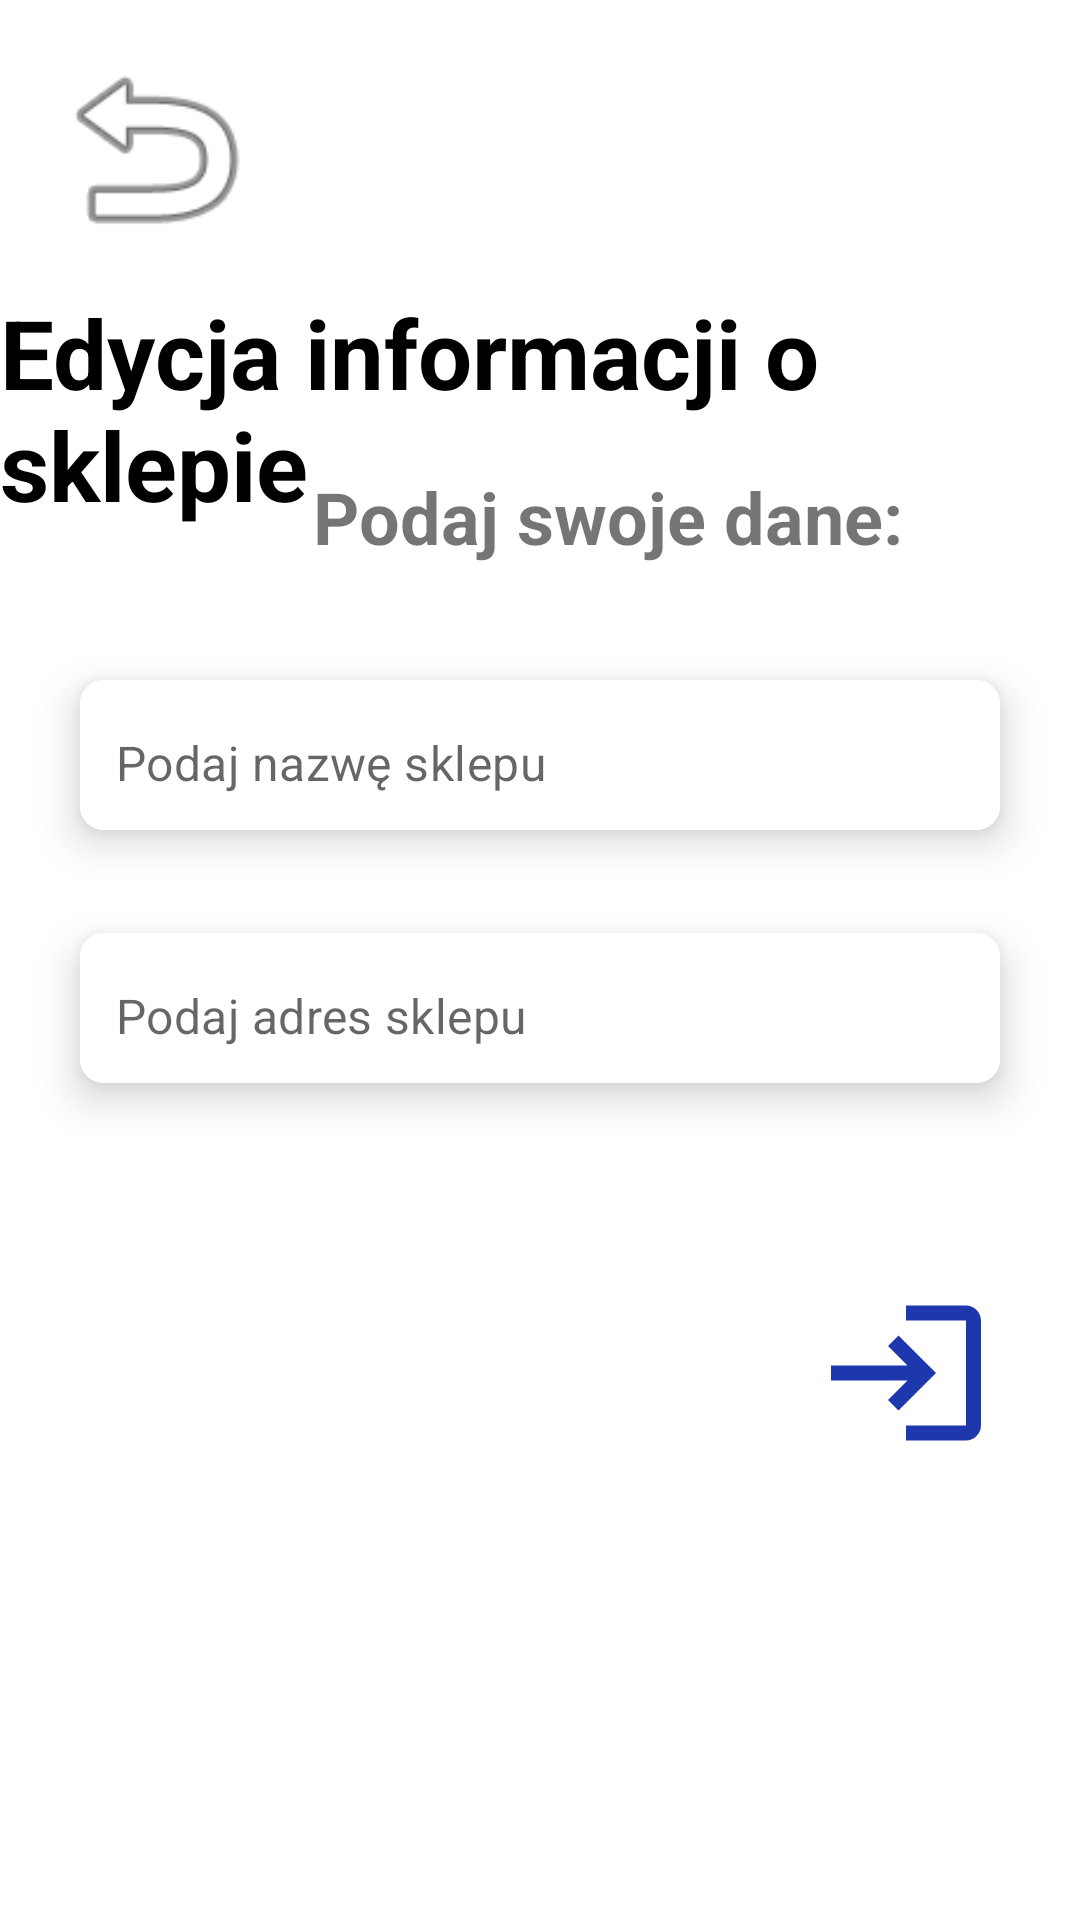

Screen size 1080x1920. Icon name, then its center in pixels as point (x, y):
login arrow: point (906, 1373)
revert: point (157, 150)
